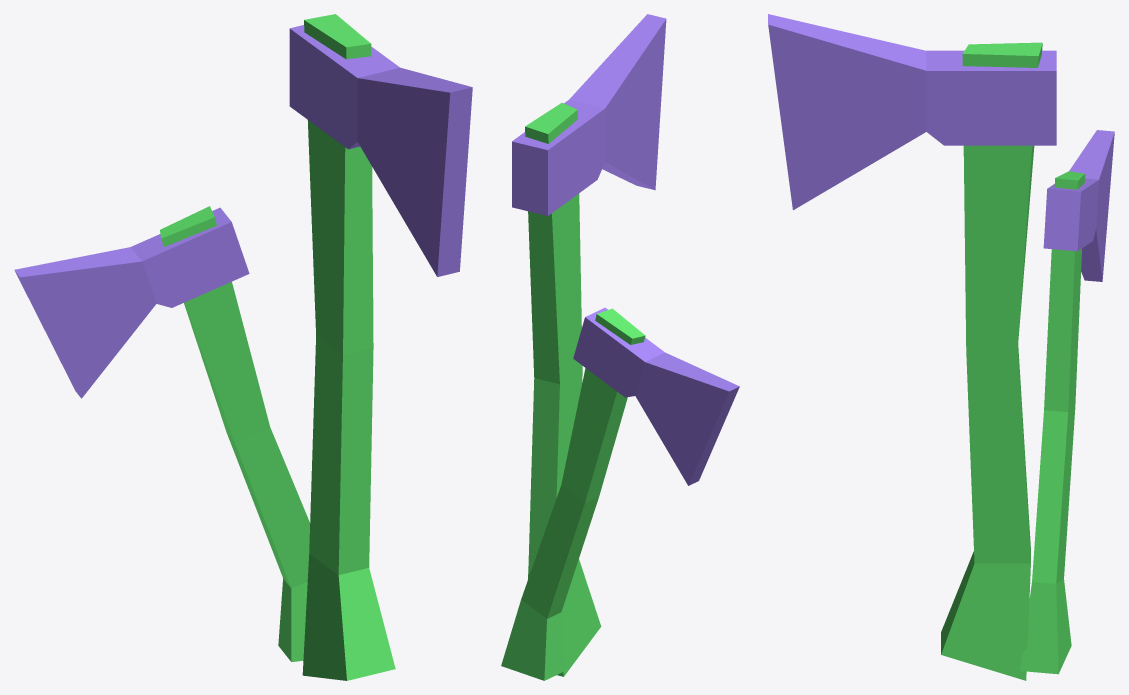
Rendered from 005_Axe.fbx.
3 renders of one model, left to right at view 1: azimuth 30°, elevation 25°; view 2: azimuth 150°, elevation 25°; view 3: azimuth 270°, elevation 25°, orthographic. The views are drawn at different scales.
Visible parts, largest first — view 1: Axe; view 2: Axe; view 3: Axe.
Part boxes in pixels (bbox=[...]): Axe: bbox=[14, 14, 472, 680]; Axe: bbox=[501, 14, 739, 680]; Axe: bbox=[768, 14, 1114, 680].
Bounding box in the file's own units: 49.21 × 105 × 50.85.
